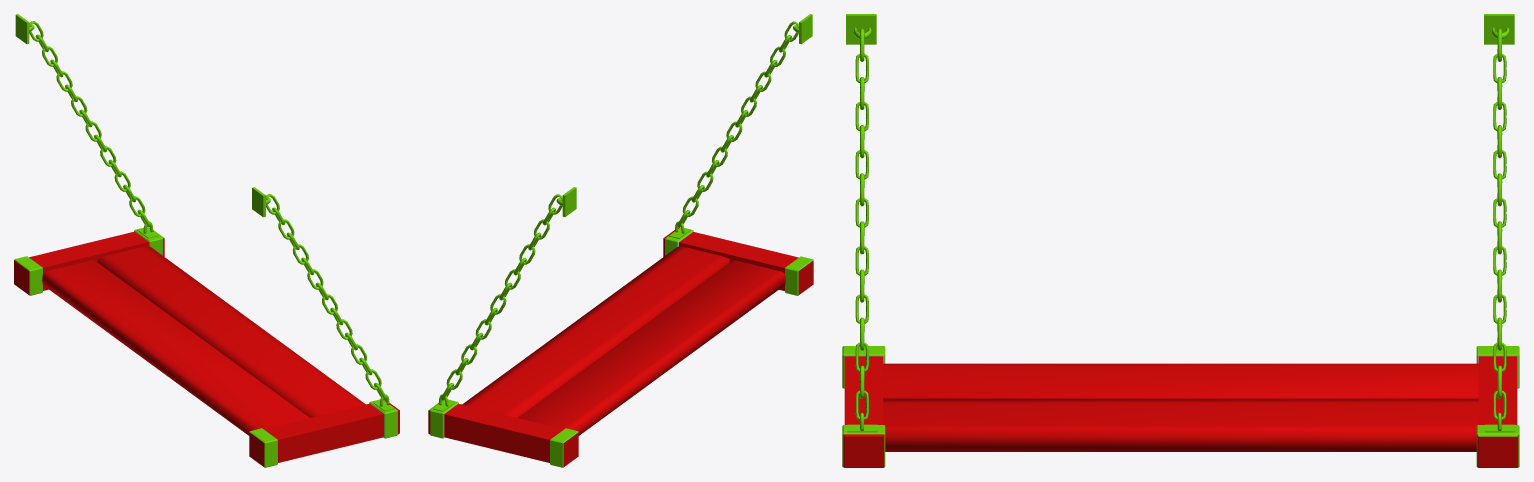
The model's file is SM_prisonBed.fbx.
3 renders of one model, left to right at view 1: azimuth 30°, elevation 25°; view 2: azimuth 150°, elevation 25°; view 3: azimuth 270°, elevation 25°, orthographic. The views are drawn at different scales.
Visible parts, largest first — view 1: plank4.001; view 2: plank4.001; view 3: plank4.001.
Boxes of the visible parts, bbox=[...] form: plank4.001: bbox=[14, 14, 399, 467]; plank4.001: bbox=[428, 14, 813, 467]; plank4.001: bbox=[842, 14, 1519, 467].
Size of the model in its own units: 76.91 by 147 by 246.
